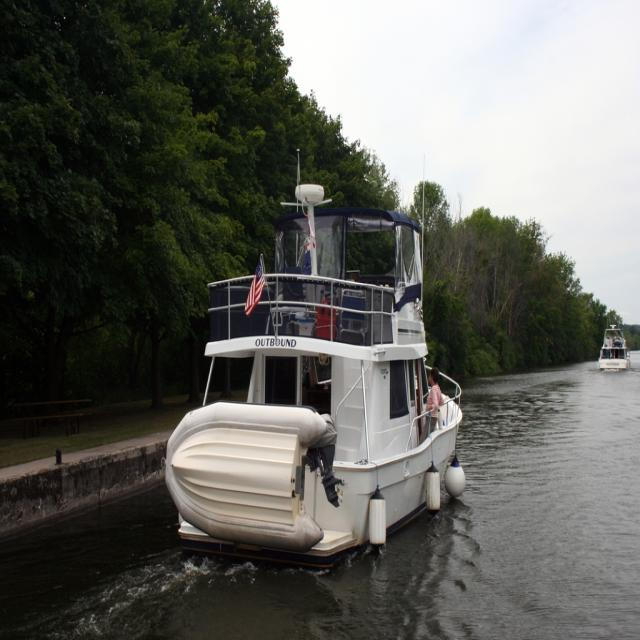Boat: (163, 145, 464, 575), (595, 323, 633, 373)
